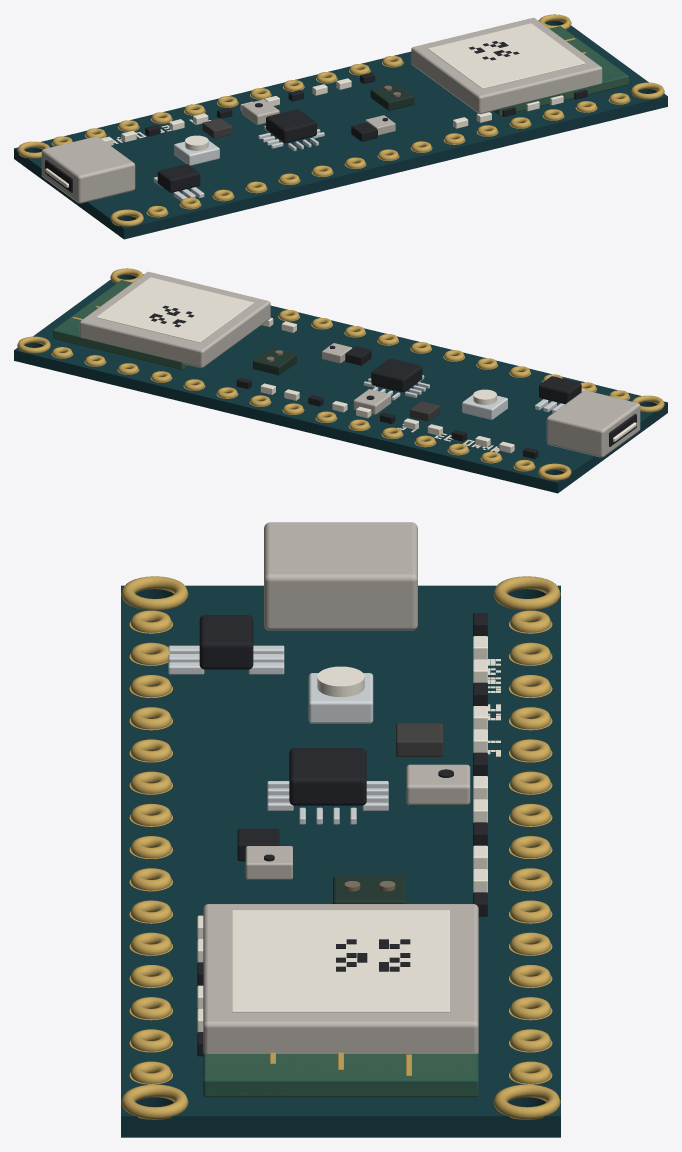
File: sensors-50.glb
3 renders of one model, top to bottom at view 1: azimuth 30°, elevation 25°; view 2: azimuth 150°, elevation 25°; view 3: azimuth 270°, elevation 25°, orthographic. The views are drawn at different scales.
Visible parts, largest first — view 1: board, module, pins, usb, power, imu, reset, antenna, optical, microphone, environment, magnetometer (+1 smaller); view 2: board, module, pins, usb, power, imu, reset, antenna, optical, microphone, environment, pressure (+1 smaller); view 3: board, module, pins, usb, power, imu, antenna, reset, microphone, optical, environment, pressure (+1 smaller).
Boxes of the visible parts, <box> form: board: <box>14,14,667,239</box>; module: <box>411,17,628,115</box>; pins: <box>51,56,630,217</box>; usb: <box>41,136,135,203</box>; power: <box>101,72,587,200</box>; imu: <box>258,109,324,151</box>; reset: <box>174,135,219,165</box>; antenna: <box>549,26,628,94</box>; optical: <box>370,83,414,110</box>; microphone: <box>242,99,279,124</box>; environment: <box>202,118,232,138</box>; magnetometer: <box>351,122,377,141</box>; board: <box>14,268,667,493</box>; module: <box>53,271,270,369</box>; pins: <box>51,310,630,471</box>; usb: <box>546,390,640,457</box>; power: <box>236,317,585,458</box>; imu: <box>363,358,429,400</box>; reset: <box>462,389,507,419</box>; antenna: <box>53,280,132,348</box>; optical: <box>253,347,296,375</box>; microphone: <box>353,389,391,414</box>; environment: <box>410,401,440,421</box>; pressure: <box>322,343,352,363</box>; board: <box>121,576,560,1137</box>; module: <box>203,904,478,1095</box>; pins: <box>129,610,552,1084</box>; usb: <box>264,522,417,630</box>; power: <box>168,613,487,1056</box>; imu: <box>267,748,388,824</box>; antenna: <box>203,1052,478,1097</box>; reset: <box>308,666,373,723</box>; microphone: <box>406,764,470,804</box>; optical: <box>333,876,405,903</box>; environment: <box>396,723,443,757</box>; pressure: <box>245,846,292,879</box>.
Size of the model in its own units: 3.61 by 0.238 by 1.23.
